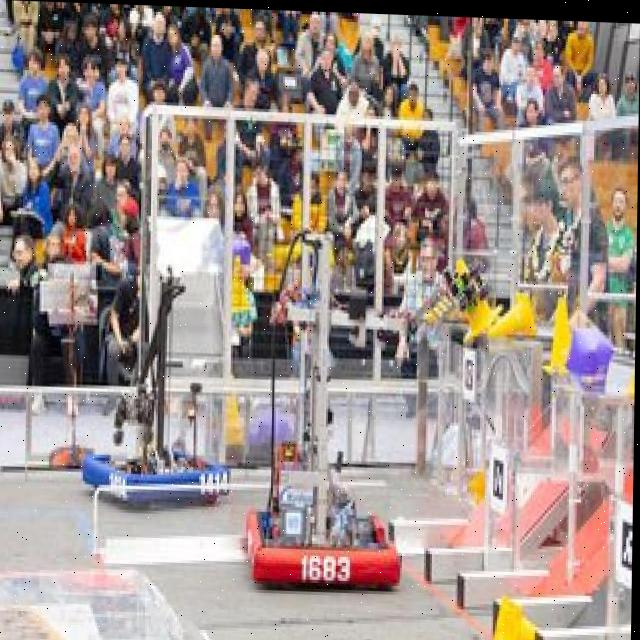robot: (241, 224, 489, 599), (81, 251, 240, 514)
